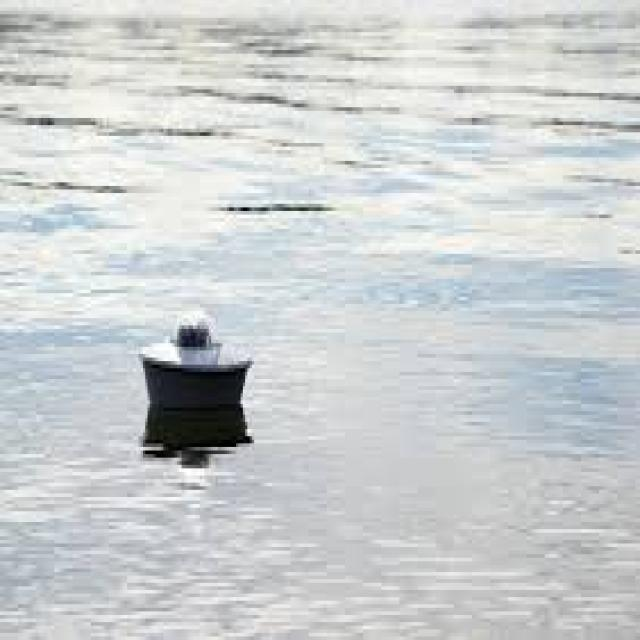marque: (135, 282, 261, 420)
